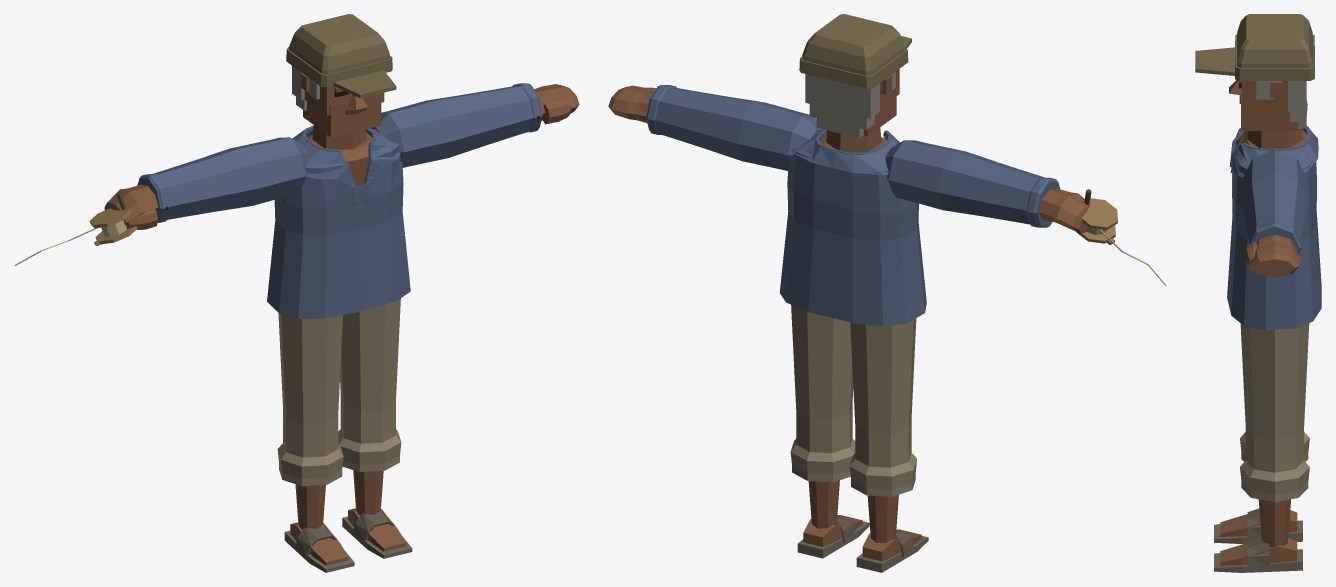
Rendered from hanga-roa-fisherman-e56812.glb.
The picture shows the model from 3 angles, left to right: view 1: azimuth 30°, elevation 25°; view 2: azimuth 150°, elevation 25°; view 3: azimuth 270°, elevation 25°; orthographic projection. The views are drawn at different scales.
Visible parts, largest first — view 1: hanga-roa-fisherman-e56812; view 2: hanga-roa-fisherman-e56812; view 3: hanga-roa-fisherman-e56812.
Boxes of the visible parts, x1,y1,x2,y2 form: hanga-roa-fisherman-e56812: (14,14,579,572); hanga-roa-fisherman-e56812: (608,14,1166,572); hanga-roa-fisherman-e56812: (1195,14,1321,572).
Bounding box in the file's own units: 1.9 × 1.7 × 0.3723.
